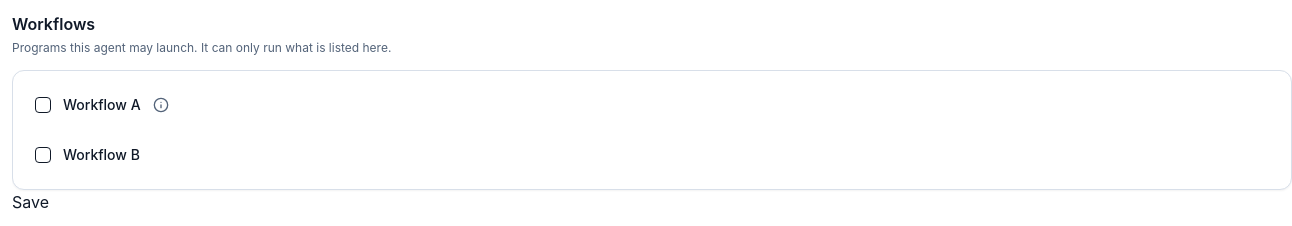
Test: WorkflowsSection › reveals the description when the info button is focused
The image size is (1292, 226).
Expected: the text "Workflow A" is shown, [63, 94, 141, 114]
Expected: the text "First" is not shown
Hover over the button named "Workflow A info" at [161, 104], box [147, 90, 175, 118]
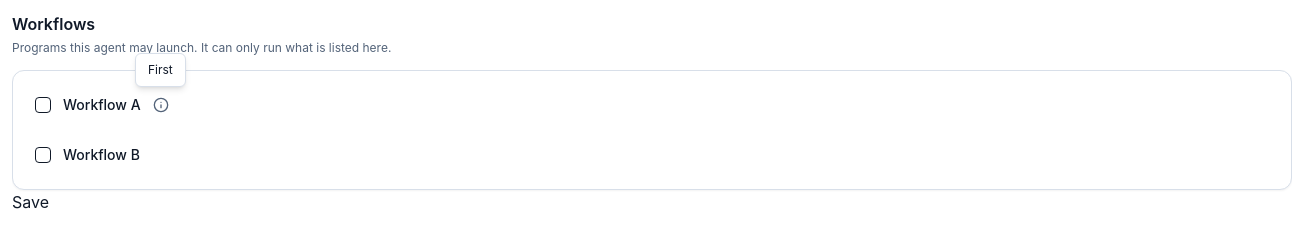
Expected: the tooltip reads "First", [148, 62, 173, 77]
